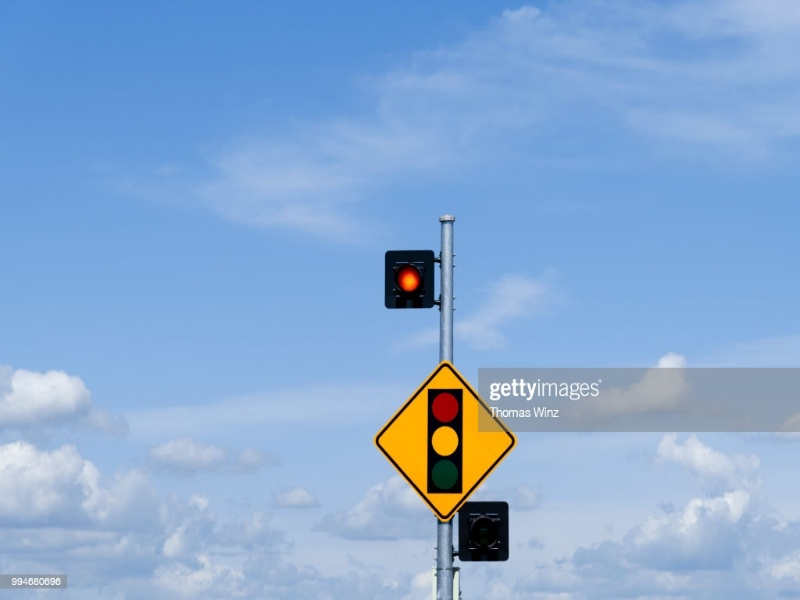traffic signal sign: (373, 362, 519, 522)
